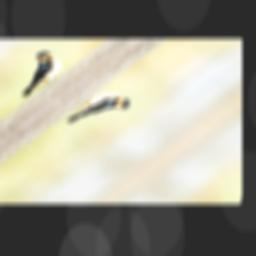Swallow: (50, 84, 135, 143)
